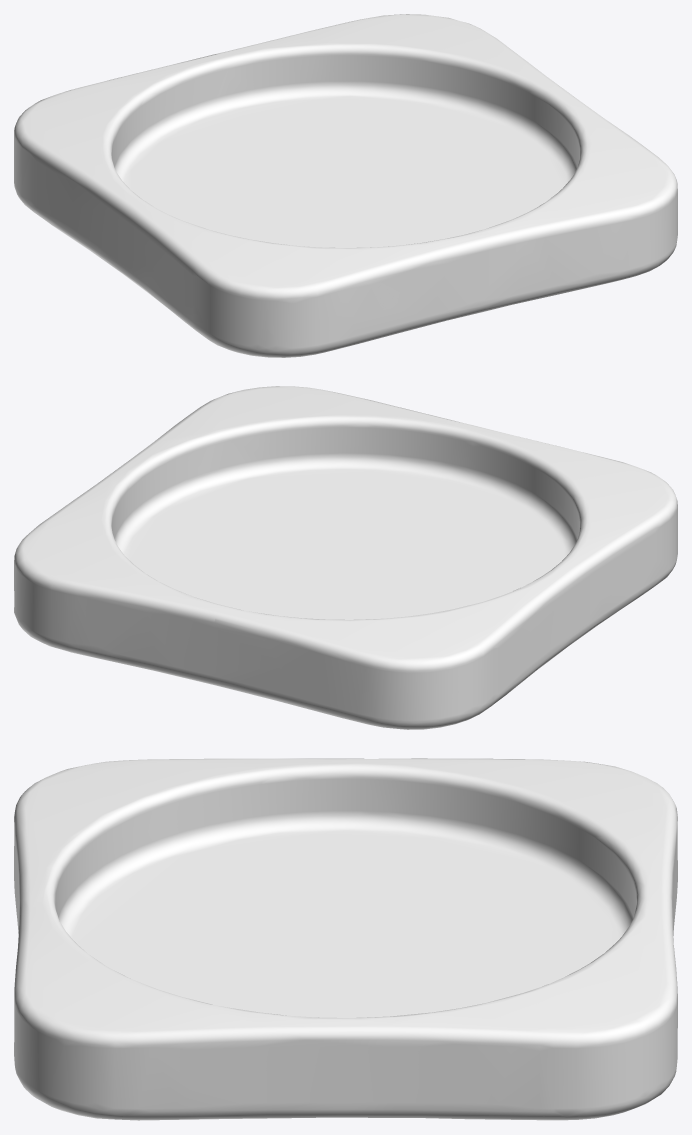
The model's file is glasig_podstawka_na_swiece_60259143.glb.
3 views of the same model, one above another, from view 1: azimuth 30°, elevation 25°; view 2: azimuth 150°, elevation 25°; view 3: azimuth 270°, elevation 25° (orthographic). The views are drawn at different scales.
Visible parts, largest first — view 1: glasig_podstawka_na_swiece_60259143; view 2: glasig_podstawka_na_swiece_60259143; view 3: glasig_podstawka_na_swiece_60259143.
Part boxes in pixels (x1,y1,x2,y2): glasig_podstawka_na_swiece_60259143: (14,14,677,357); glasig_podstawka_na_swiece_60259143: (14,386,677,729); glasig_podstawka_na_swiece_60259143: (14,758,677,1120).
Bounding box in the file's own units: 0.0961 × 0.0151 × 0.0961.
1 material, 1 textured.
